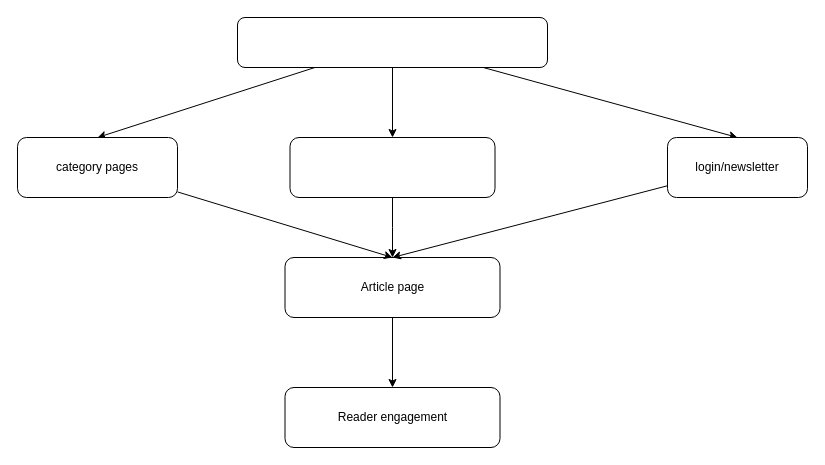
This 825x465 diagram has some shape labels left out. The box of each missing label's shape, as (x1, y1, x2, y2) in pixels:
Homepage: (236, 16, 548, 68)
search: (289, 136, 495, 198)
